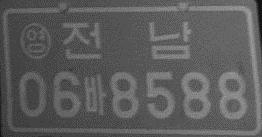0: (18, 70, 46, 118)
5: (144, 70, 176, 119)
6: (52, 70, 81, 119)
8: (217, 70, 248, 121), (180, 71, 211, 120), (109, 70, 138, 118)
바: (83, 74, 106, 115)
영: (19, 21, 52, 60)
전남_D: (60, 20, 194, 61)
